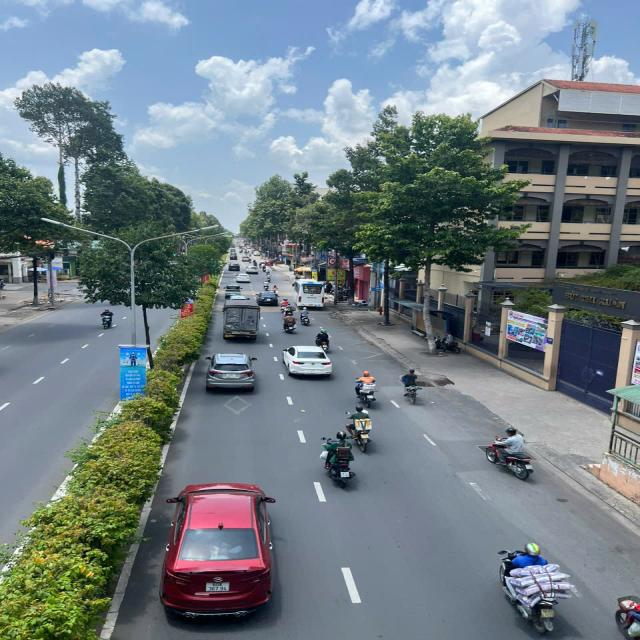Xe tho so: (400, 365, 425, 405)
ben: (220, 294, 263, 343)
car: (158, 479, 285, 624), (202, 349, 261, 394), (280, 344, 336, 381), (292, 276, 329, 312), (258, 288, 280, 307), (224, 281, 244, 299), (234, 270, 253, 284)
motobyte: (493, 540, 572, 637), (484, 426, 540, 483), (320, 432, 359, 487), (346, 406, 376, 455), (354, 371, 379, 410), (98, 304, 114, 332), (317, 326, 333, 354), (284, 310, 297, 334), (298, 306, 312, 326), (281, 295, 290, 311), (262, 279, 271, 291)
